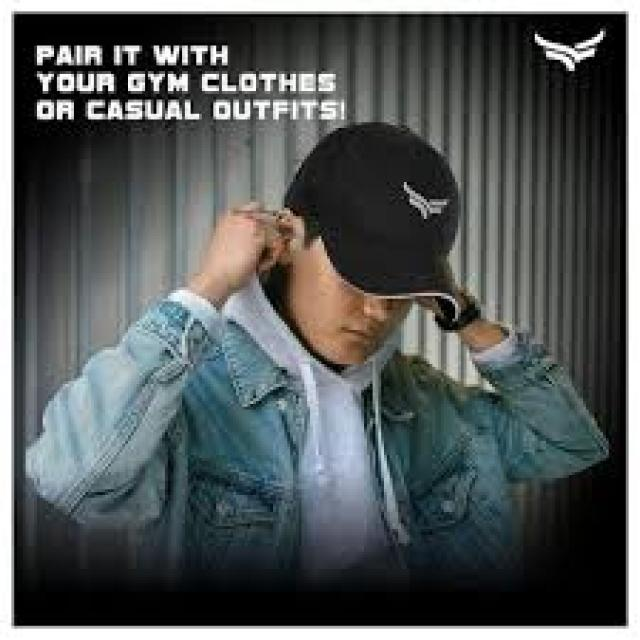hat: (285, 123, 460, 318)
